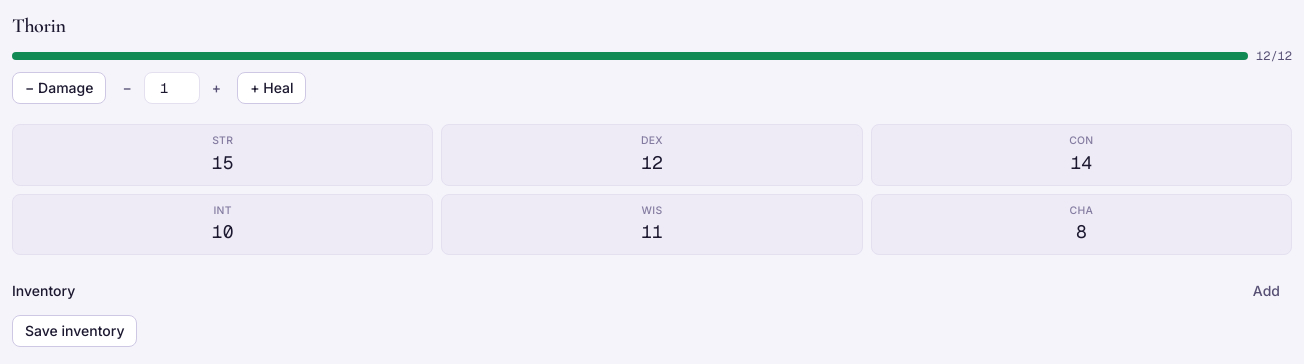
Test case: CharacterHud › clamps a typed amount to hpMax on blur when hpMax is below 999
The width and height of the screenshot is (1304, 364).
Step 1. Replace the text in the number field named "hp change amount" with "500" → (172, 88), box [144,72,200,104]
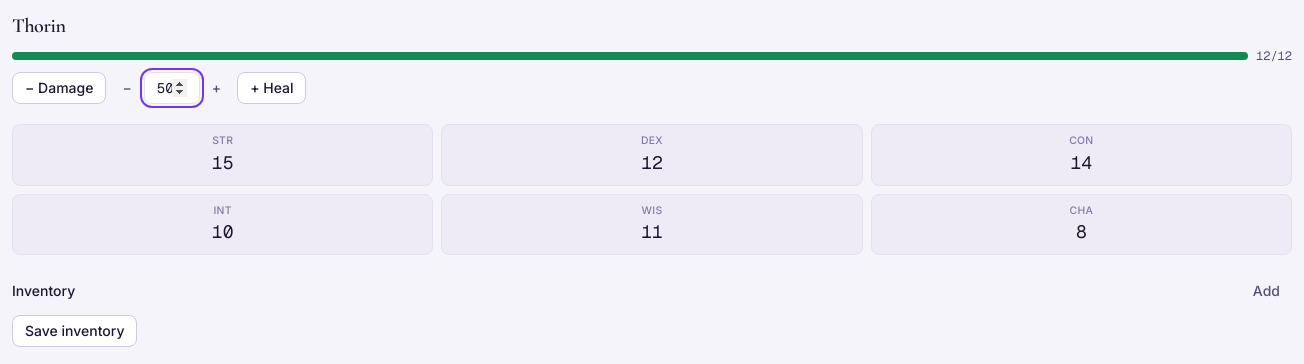
Step 2. Leave the number field named "hp change amount", box [144,72,200,104]
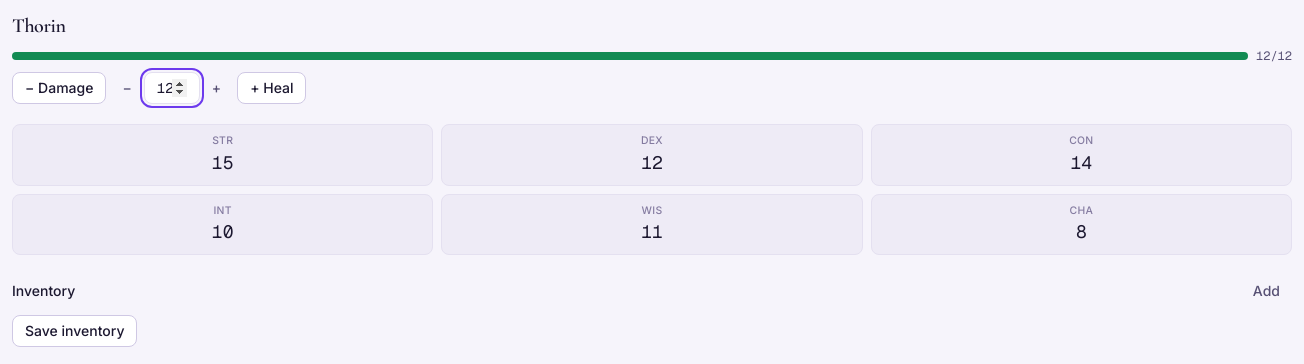
Expected: the number field named "hp change amount" holds "12", [144,72,200,104]
